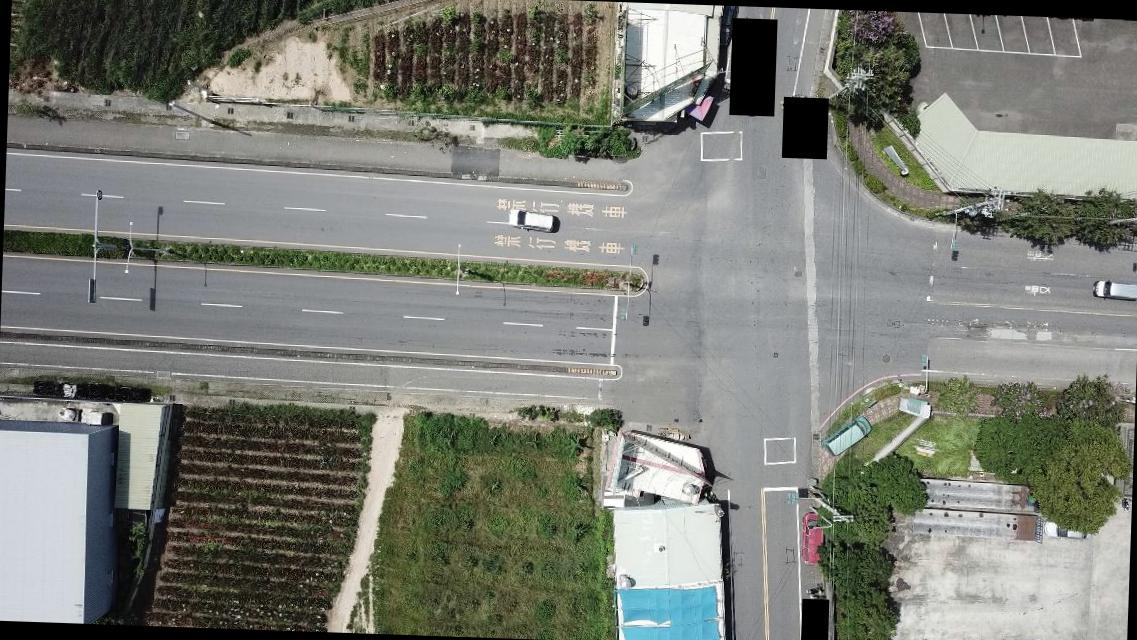vehicle: (823, 415, 869, 461), (507, 207, 562, 236), (800, 511, 827, 563), (1044, 514, 1090, 544), (1091, 276, 1136, 305), (720, 5, 735, 48)
